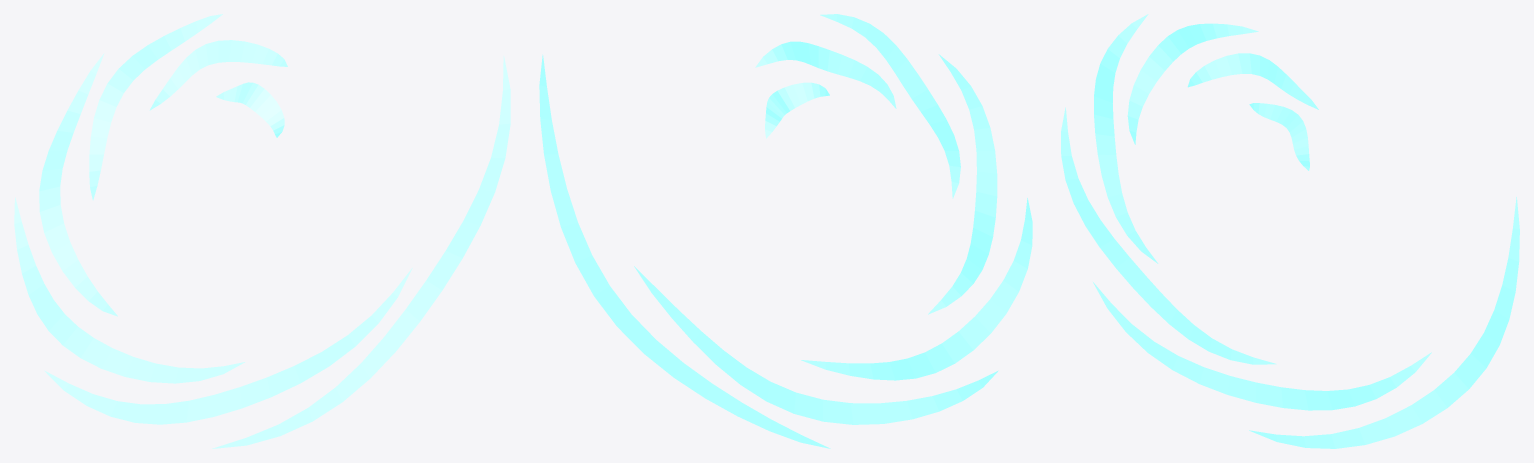
Rendered from impact.glb.
3 renders of one model, left to right at view 1: azimuth 30°, elevation 25°; view 2: azimuth 150°, elevation 25°; view 3: azimuth 330°, elevation 25°, orthographic. The views are drawn at different scales.
Visible parts, largest first — view 1: impact; view 2: impact; view 3: impact.
Boxes of the visible parts, x1,y1,x2,y2 form: impact: (14, 14, 510, 448); impact: (539, 14, 1032, 448); impact: (1061, 14, 1519, 448).
Bounding box in the file's own units: 1.97 × 1.66 × 0.0499.
